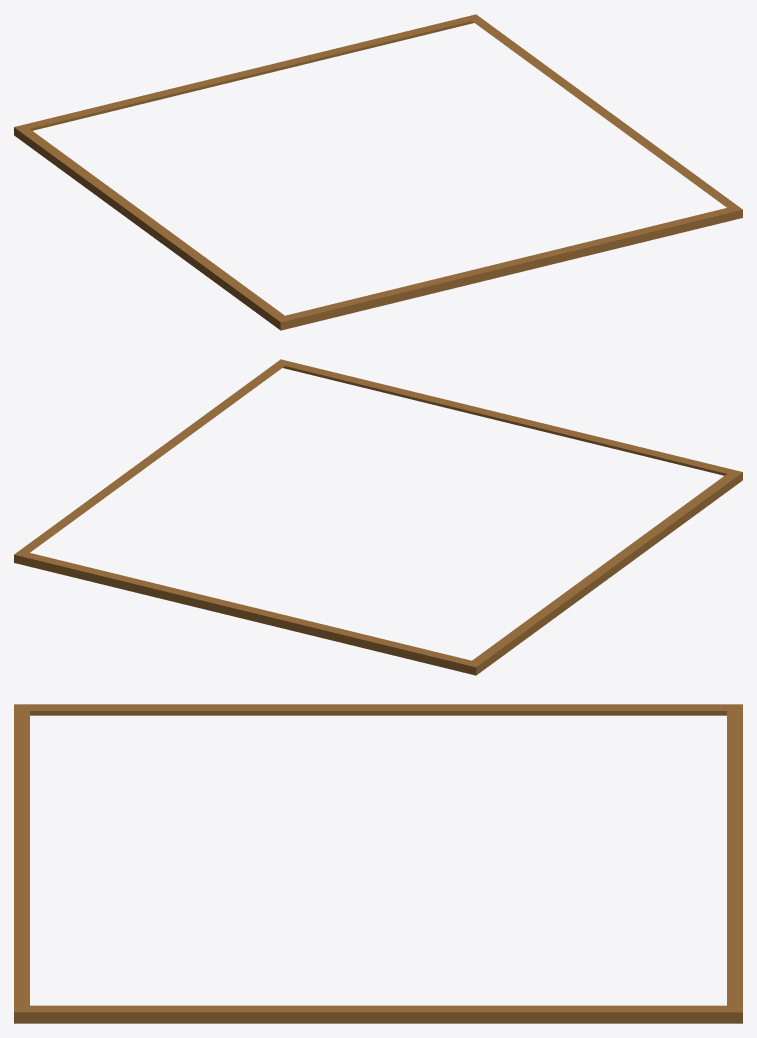
File: floor-2.gltf
3 views of the same model, one above another, from view 1: azimuth 30°, elevation 25°; view 2: azimuth 150°, elevation 25°; view 3: azimuth 270°, elevation 25° (orthographic). The views are drawn at different scales.
Visible parts, largest first — view 1: Plane.027; view 2: Plane.027; view 3: Plane.027.
Part boxes in pixels (x1,y1,x2,y2): Plane.027: (14, 14, 742, 330); Plane.027: (14, 359, 742, 675); Plane.027: (14, 704, 742, 1023).
Size of the model in its own units: 2.01 by 0.0344 by 2.01.
Materials: 1 (1 with a texture image).
